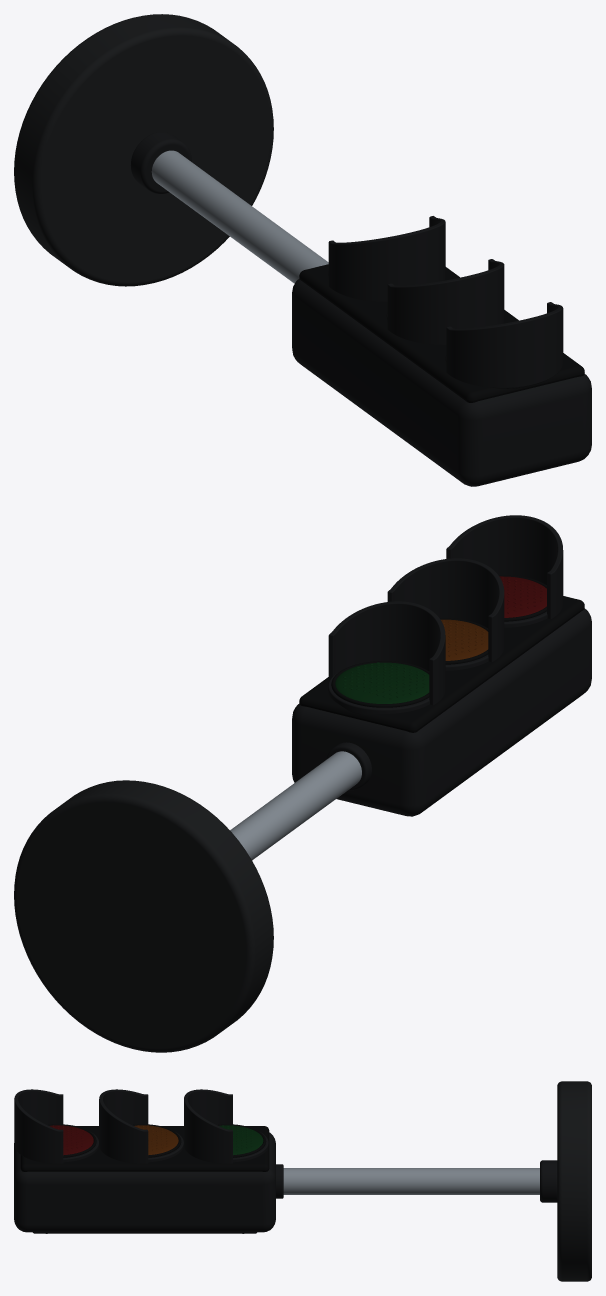
The model's file is semaforo.obj.
The picture shows the model from 3 angles, top to bottom: view 1: azimuth 30°, elevation 25°; view 2: azimuth 150°, elevation 25°; view 3: azimuth 270°, elevation 25°; orthographic projection. The views are drawn at different scales.
Parts seen in each view (by area): view 1: Base_circular, Carcasa_principal, Visera_roja, Poste, Visera_ambar, Visera_verde, Marco_frontal, Collarin_inferior; view 2: Base_circular, Carcasa_principal, Visera_verde, Visera_roja, Visera_ambar, Marco_frontal, Poste, Lente_verde, Lente_ambar, Lente_roja, Aro_verde, Junta_verde (+1 smaller); view 3: Carcasa_principal, Base_circular, Poste, Marco_frontal, Visera_ambar, Visera_roja, Visera_verde, Collarin_inferior, Lente_ambar, Lente_roja, Lente_verde, Placa_trasera (+1 smaller).
Boxes of the visible parts, box(x1,y1,x2,y2) form: Base_circular: box(14, 14, 273, 286); Carcasa_principal: box(292, 278, 591, 486); Visera_roja: box(446, 302, 563, 388); Poste: box(151, 150, 328, 283); Visera_ambar: box(387, 259, 504, 344); Visera_verde: box(328, 216, 445, 301); Marco_frontal: box(299, 264, 584, 402); Collarin_inferior: box(130, 132, 191, 193); Base_circular: box(14, 780, 273, 1052); Carcasa_principal: box(292, 608, 591, 816); Visera_verde: box(328, 601, 445, 705); Visera_roja: box(446, 515, 563, 619); Visera_ambar: box(387, 558, 504, 662); Marco_frontal: box(299, 596, 584, 732); Poste: box(230, 751, 361, 860); Lente_verde: box(335, 662, 429, 703); Lente_ambar: box(441, 619, 488, 660); Lente_roja: box(499, 576, 546, 617); Aro_verde: box(328, 672, 429, 714); Junta_verde: box(331, 661, 429, 707); Carcasa_principal: box(14, 1132, 275, 1232); Base_circular: box(557, 1081, 591, 1281); Poste: box(283, 1168, 539, 1194); Marco_frontal: box(20, 1126, 269, 1171); Visera_ambar: box(99, 1089, 148, 1163); Visera_roja: box(14, 1089, 63, 1163); Visera_verde: box(184, 1089, 232, 1163); Collarin_inferior: box(540, 1160, 557, 1202); Lente_ambar: box(134, 1125, 178, 1154); Lente_roja: box(49, 1125, 93, 1155); Lente_verde: box(219, 1125, 263, 1155); Placa_trasera: box(33, 1232, 256, 1233).
Size of the model in its own units: 104 by 104 by 300.
